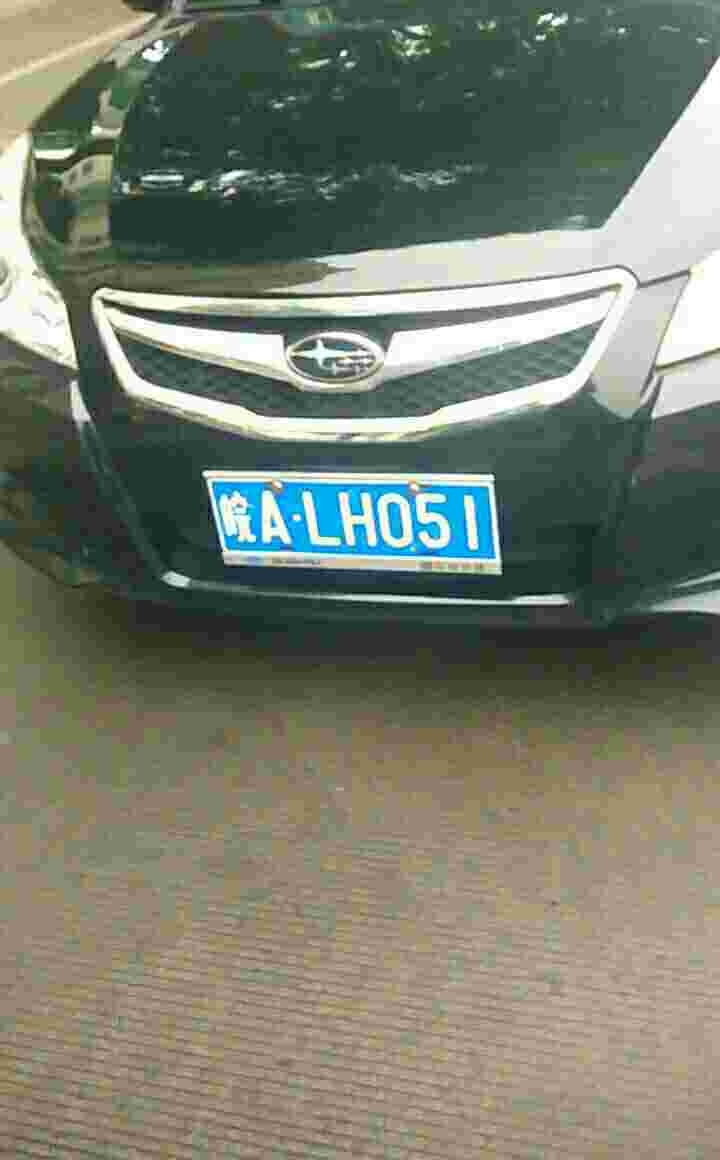license_plate: (216, 474, 489, 564)
